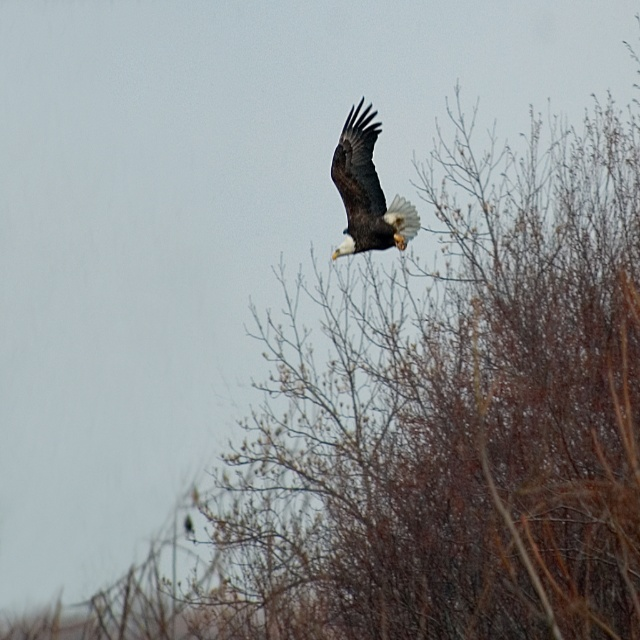Eagle: (332, 98, 420, 261)
